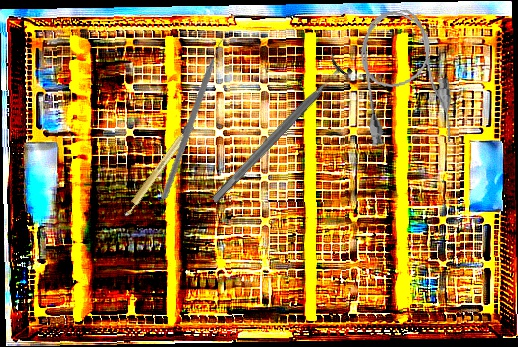Cannula: (352, 4, 458, 155)
Chopper: (131, 35, 266, 200)
Fixation Ring: (202, 51, 355, 212)
Scalpel Handle: (120, 122, 195, 219)
